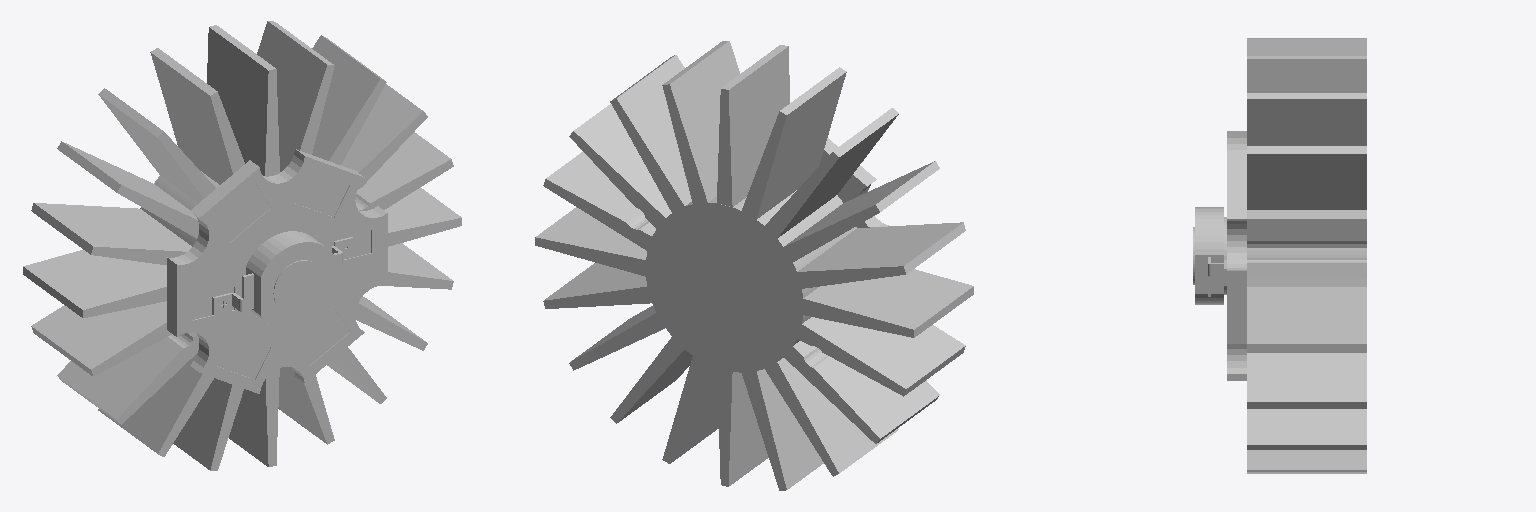
File: LED illuminator heat sink assembly v5.obj
The picture shows the model from 3 angles: view 1: azimuth 30°, elevation 25°; view 2: azimuth 150°, elevation 25°; view 3: azimuth 270°, elevation 25°; orthographic projection.
Parts seen in each view (by area): view 1: Body1, Body2, Body1:1, Body1:2, Body6, Body4; view 2: Body1, Body1:1; view 3: Body1, Body1:1, Body1:2.
Boxes of the visible parts, x1,y1,x2,y2 form: Body1: [23, 21, 461, 470]; Body2: [176, 156, 387, 393]; Body1:1: [167, 149, 386, 381]; Body1:2: [246, 231, 336, 331]; Body6: [273, 260, 324, 314]; Body4: [212, 273, 253, 314]; Body1: [535, 41, 973, 490]; Body1:1: [819, 139, 887, 227]; Body1: [1247, 38, 1366, 473]; Body1:1: [1229, 131, 1246, 380]; Body1:2: [1195, 207, 1223, 304].
Bounding box in the file's own units: 3.6 × 3.6 × 1.43.